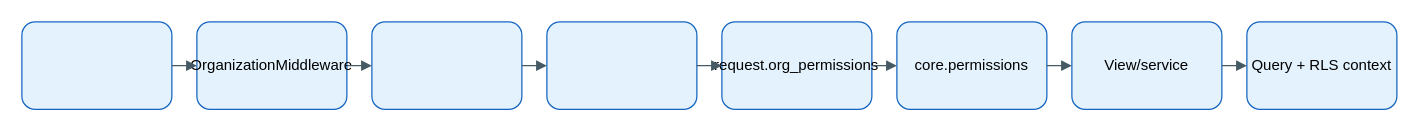
Image size: 1419x131. Some labels were removed from this diagram. Each missing label, with the box of its shape:
Login: (21, 21, 172, 109)
Membership rows: (371, 21, 522, 109)
Role.permissions: (546, 21, 697, 109)
